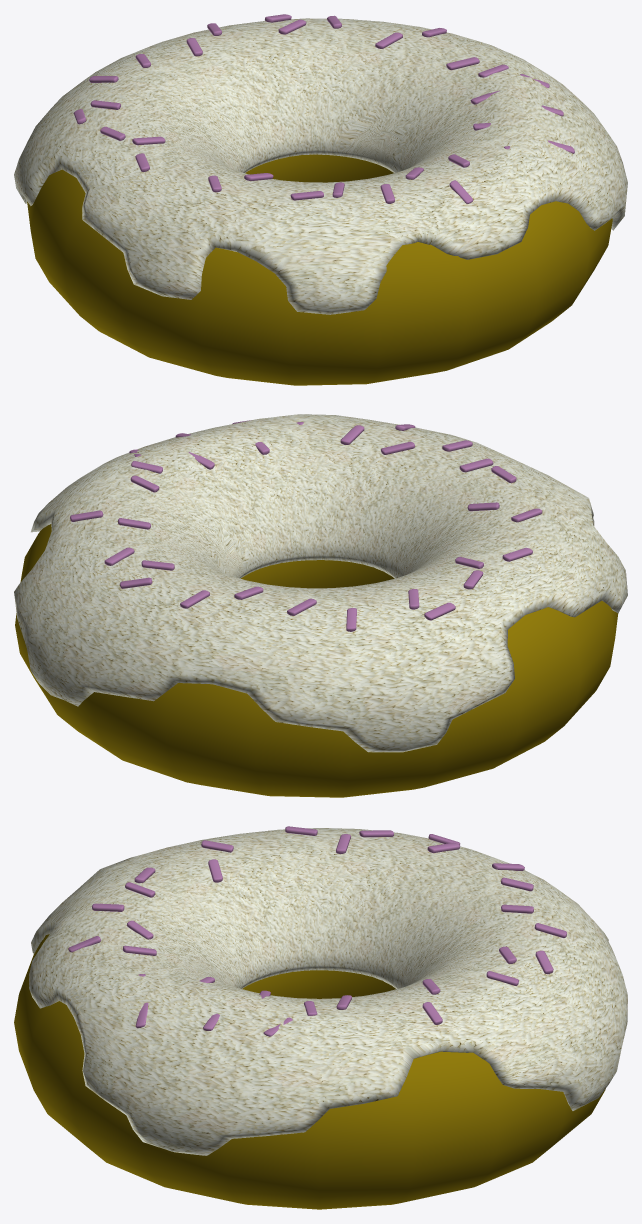
File: donut.fbx
3 renders of one model, top to bottom at view 1: azimuth 30°, elevation 25°; view 2: azimuth 150°, elevation 25°; view 3: azimuth 270°, elevation 25°, orthographic. The views are drawn at different scales.
Parts seen in each view (by area): view 1: glaseado, Masita; view 2: glaseado, Masita; view 3: glaseado, Masita.
Boxes of the visible parts, box(x1,y1,x2,y2) form: glaseado: box(14, 18, 627, 314); Masita: box(27, 154, 612, 385); glaseado: box(14, 414, 627, 752); Masita: box(15, 524, 618, 797); glaseado: box(29, 828, 627, 1155); Masita: box(14, 934, 605, 1209).
Size of the model in its own units: 10.36 by 3.63 by 10.32.
Materials: 3 (1 with a texture image).
